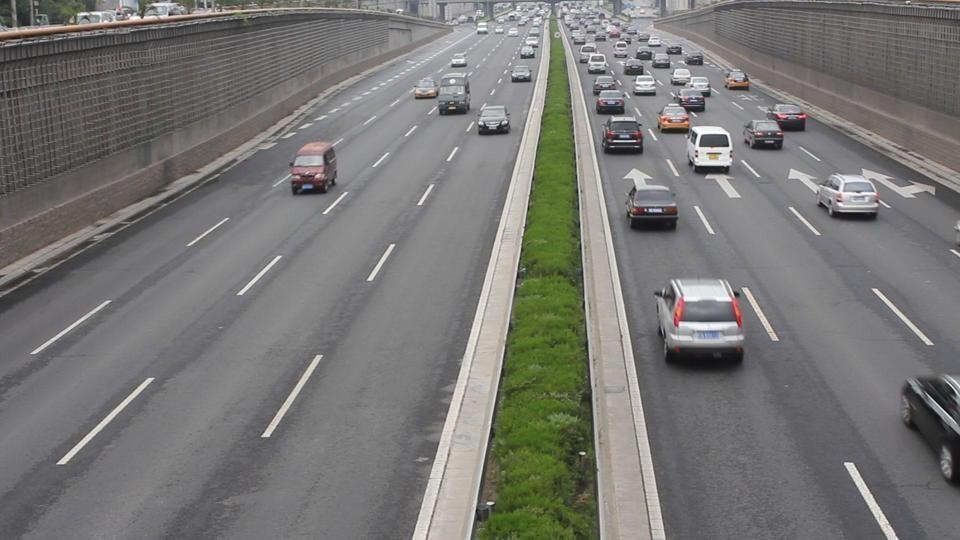car: (653, 276, 746, 366), (898, 373, 960, 484), (816, 173, 881, 219), (289, 141, 339, 194), (625, 185, 679, 230), (685, 125, 734, 172), (601, 116, 645, 155), (741, 118, 784, 150), (437, 75, 471, 115), (476, 103, 512, 135), (769, 103, 809, 131), (658, 103, 691, 132), (595, 89, 627, 114), (413, 77, 439, 100), (592, 75, 618, 96), (633, 75, 657, 96), (670, 65, 692, 87), (511, 63, 533, 82), (451, 52, 469, 69)
